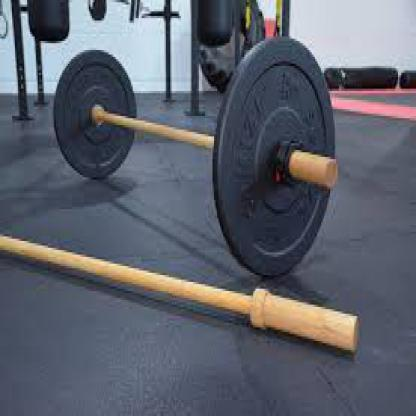Barbell: (207, 30, 343, 281)
